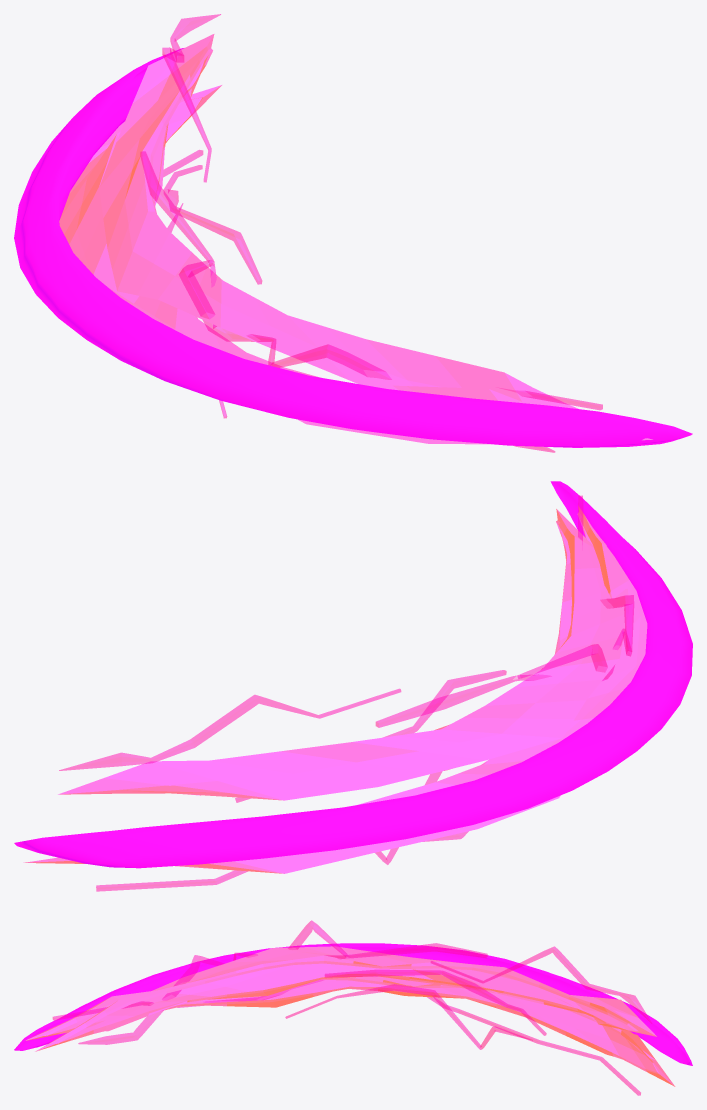
File: Slash.fbx
The picture shows the model from 3 angles, top to bottom: view 1: azimuth 30°, elevation 25°; view 2: azimuth 150°, elevation 25°; view 3: azimuth 270°, elevation 25°; orthographic projection. The views are drawn at different scales.
Parts seen in each view (by area): view 1: Plane.002, Plane.005, Plane.006, Plane.004, Plane.003; view 2: Plane.002, Plane.005, Plane.006, Plane.003, Plane.004; view 3: Plane.002, Plane.005, Plane.003, Plane.004, Plane.007, Plane.006.
Boxes of the visible parts, x1,y1,x2,y2 form: Plane.002: [14, 34, 692, 447]; Plane.005: [140, 151, 555, 452]; Plane.006: [162, 14, 220, 182]; Plane.004: [163, 165, 262, 284]; Plane.003: [163, 150, 602, 410]; Plane.002: [14, 481, 692, 873]; Plane.005: [375, 595, 634, 727]; Plane.006: [59, 688, 401, 770]; Plane.003: [96, 495, 583, 891]; Plane.004: [235, 670, 506, 802]; Plane.002: [14, 943, 692, 1086]; Plane.005: [78, 920, 487, 1044]; Plane.003: [52, 980, 640, 1095]; Plane.004: [324, 969, 546, 1035]; Plane.007: [285, 984, 532, 1049]; Plane.006: [430, 946, 651, 1023].
Bounding box in the file's own units: 84.43 × 41.04 × 197.
